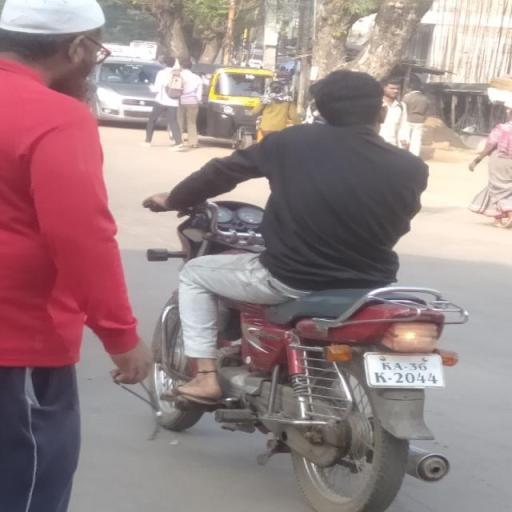bike: (124, 62, 482, 512)
numberplate: (364, 350, 446, 392)
using mobile: (310, 115, 334, 128)
withouthelmet: (311, 72, 386, 126)
